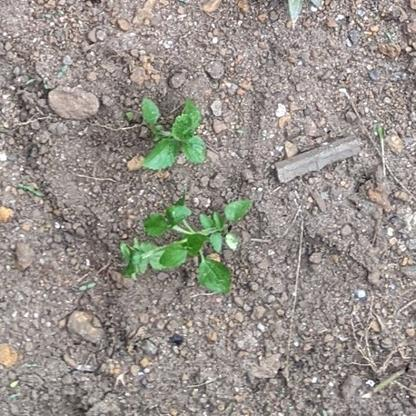weed: (118, 197, 254, 293), (136, 95, 208, 174)
